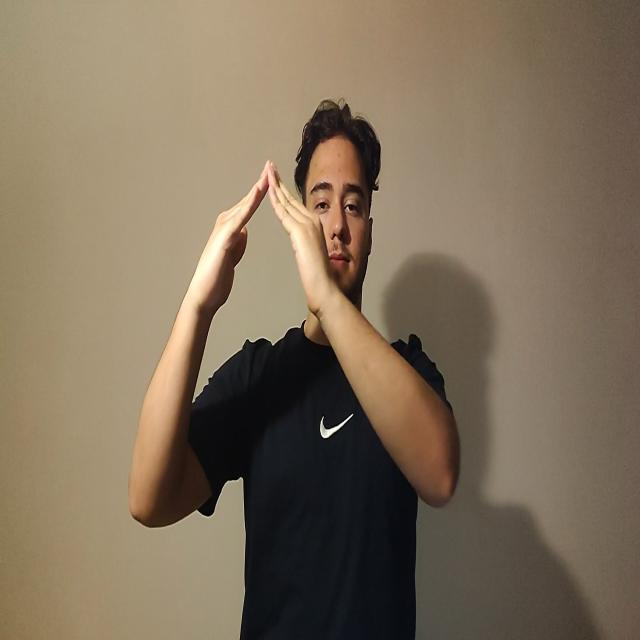house: (192, 156, 330, 317)
